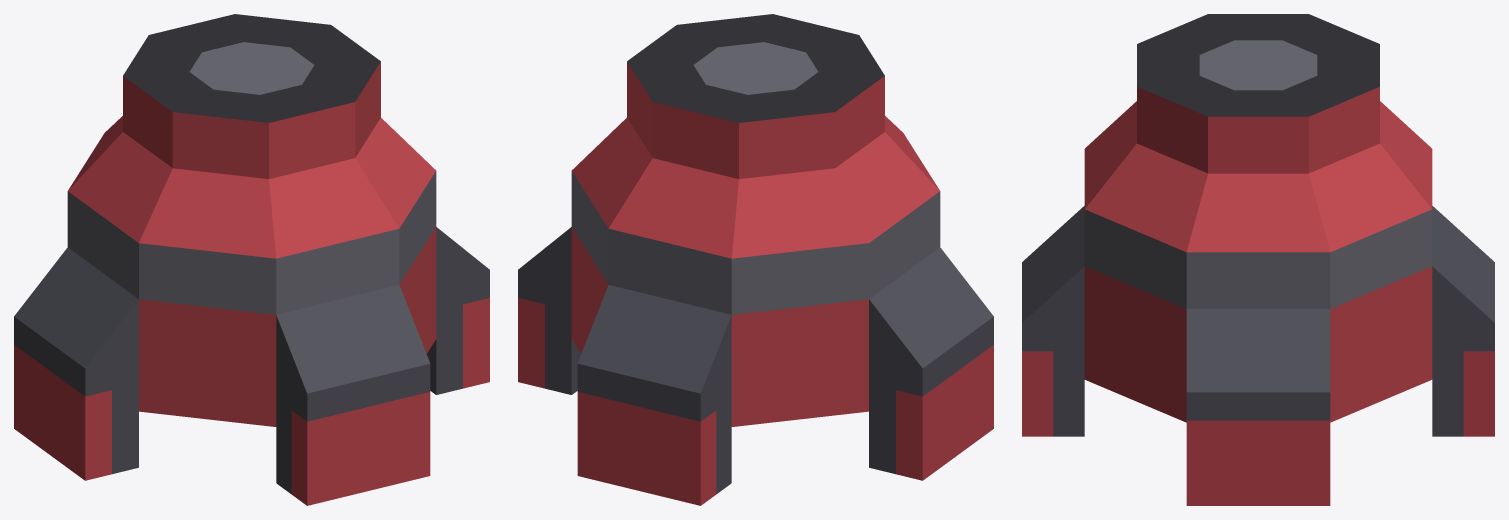
Rendered from hull_tank.glb.
The picture shows the model from 3 angles, left to right: view 1: azimuth 30°, elevation 25°; view 2: azimuth 150°, elevation 25°; view 3: azimuth 270°, elevation 25°; orthographic projection.
Parts seen in each view (by area): view 1: body; view 2: body; view 3: body.
Boxes of the visible parts, box(x1,y1,x2,y2) form: body: box(14, 14, 489, 505); body: box(518, 14, 993, 505); body: box(1022, 14, 1494, 505).
Size of the model in its own units: 0.7543 by 0.6 by 0.7543.
